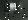person: (11, 3, 16, 15), (5, 5, 10, 16)
